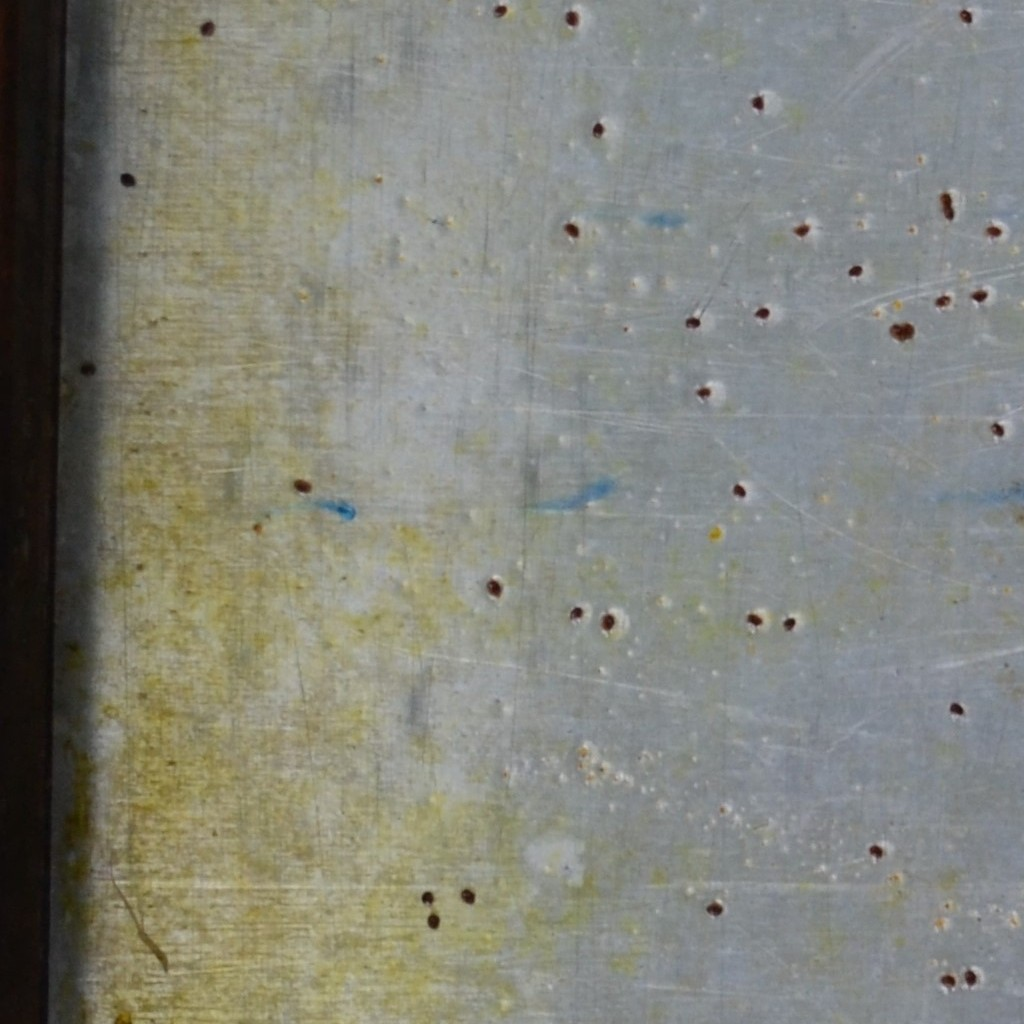varroa: (291, 475, 315, 502), (76, 359, 100, 382), (562, 218, 583, 244), (598, 607, 616, 637), (482, 578, 506, 600), (561, 7, 583, 29), (116, 167, 138, 189), (948, 697, 967, 722), (743, 610, 766, 630), (938, 971, 957, 995), (961, 967, 979, 992), (195, 18, 216, 39), (790, 219, 812, 239), (567, 601, 586, 624), (933, 293, 954, 313), (747, 92, 769, 111), (988, 419, 1007, 441), (780, 614, 799, 636), (459, 886, 479, 906), (866, 841, 885, 862), (957, 4, 975, 26), (968, 287, 990, 305), (425, 910, 442, 932), (694, 384, 714, 402), (732, 481, 749, 502), (705, 902, 726, 919), (683, 314, 702, 332), (985, 223, 1005, 240), (750, 305, 773, 319), (845, 262, 865, 278), (937, 188, 955, 205), (492, 2, 508, 21), (590, 120, 605, 140), (940, 203, 956, 221), (419, 890, 436, 905)
